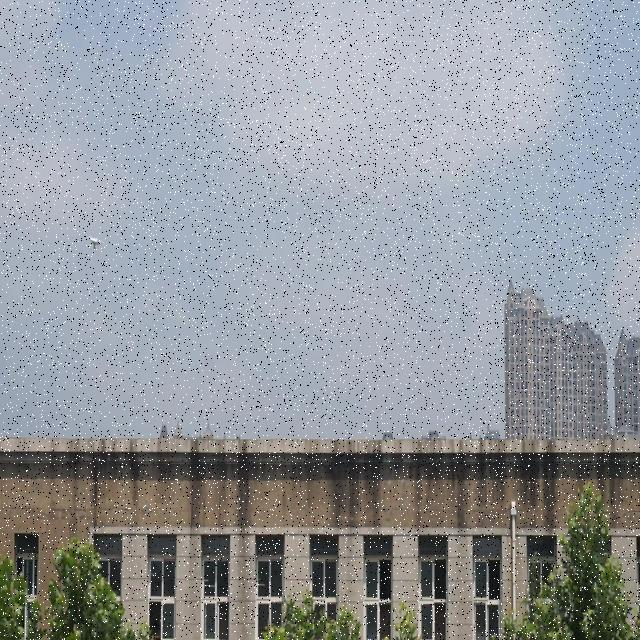UAV: (85, 235, 104, 252)
